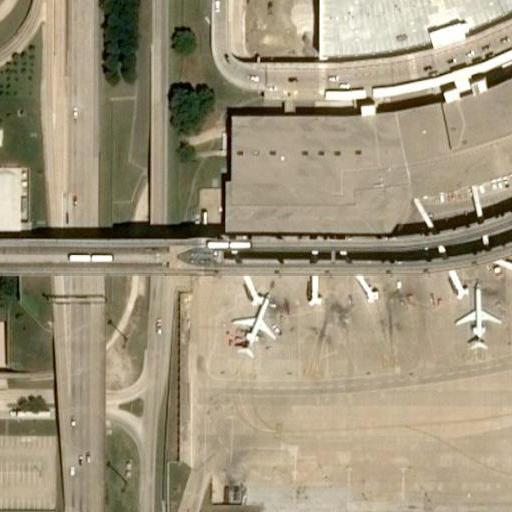Aircraft: (227, 297, 276, 357), (454, 286, 495, 349)
